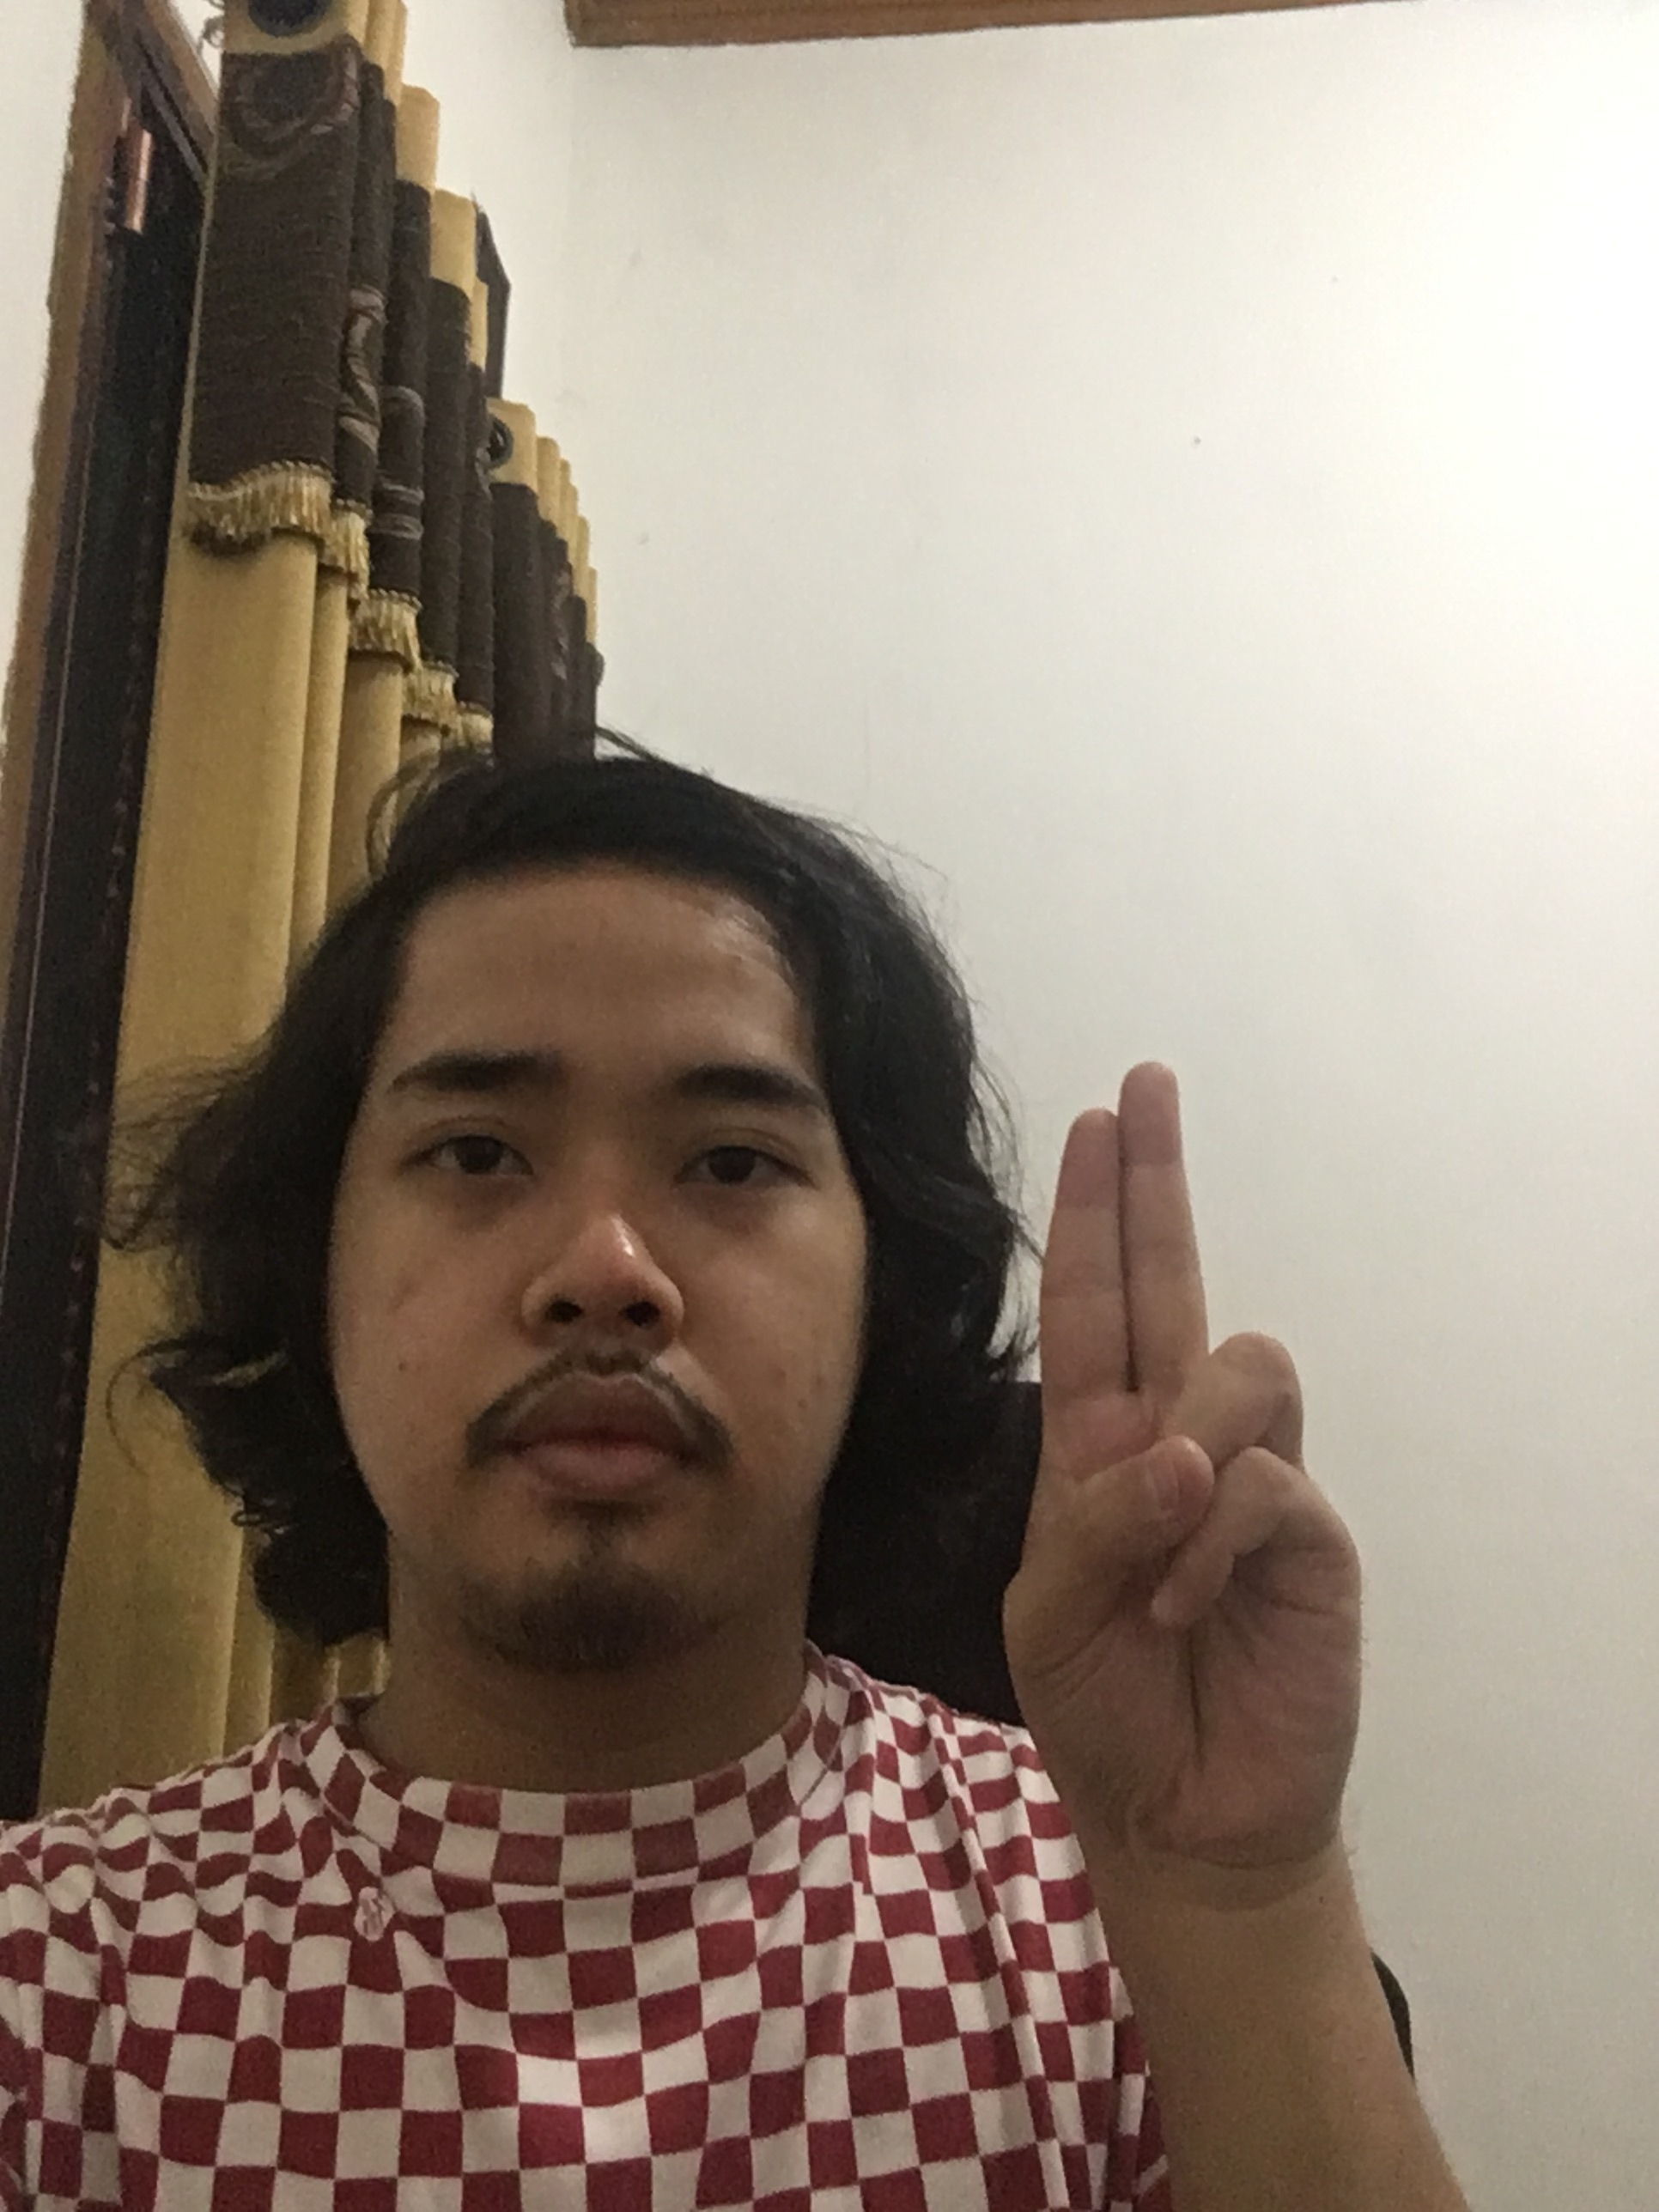U: (988, 1028, 1415, 1898)
